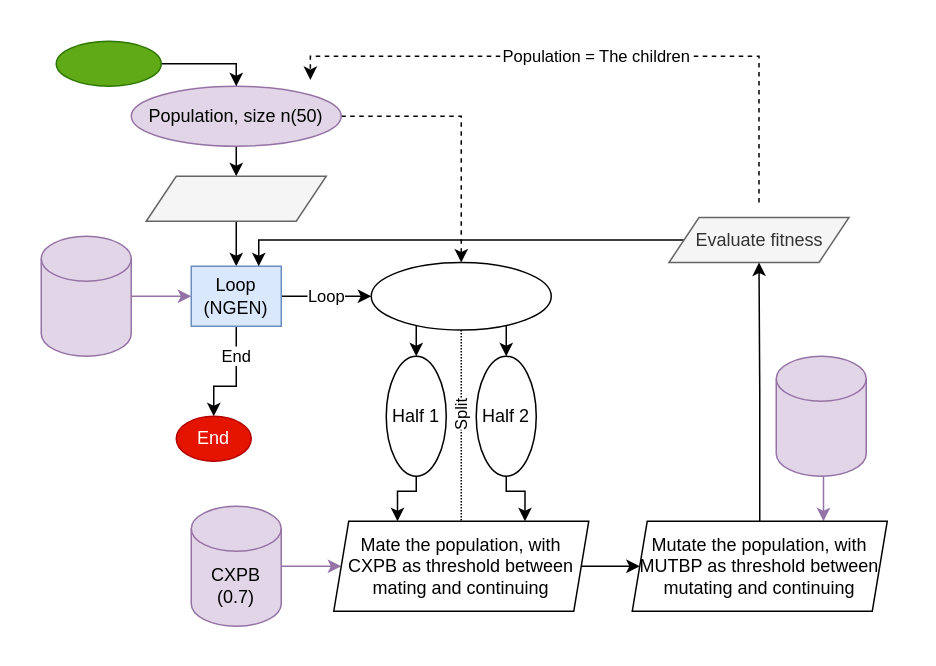
This 936x666 diagram has some shape labels left out. The centre of each missing label's shape, as x and y in pixels:
"Clone population (offspring)" goes at point 460,295.
"Evaluate initial fitness" goes at point 235,198.
"MUTBP (0.2)" goes at point 820,415.
"NGEN (50)" goes at point 85,295.
"Start" goes at point 108,63.
